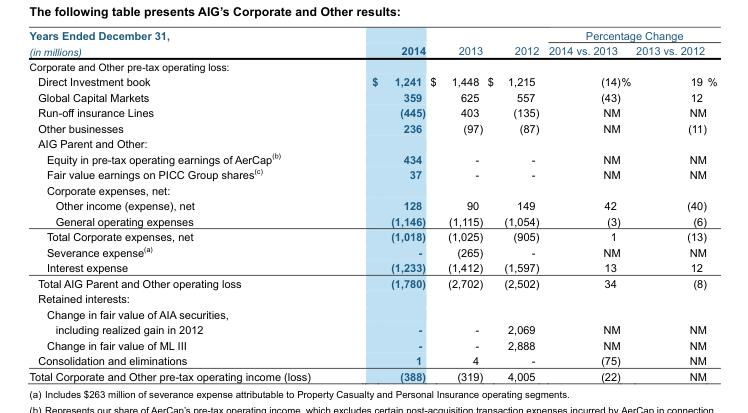table: (28, 28, 716, 382)
table column: (28, 28, 340, 382), (543, 28, 632, 382), (340, 28, 427, 382), (632, 28, 716, 382), (484, 28, 543, 382), (427, 28, 484, 382)
table column header: (28, 28, 716, 58)
table projected row header: (28, 290, 716, 306), (28, 58, 716, 73), (28, 135, 716, 150), (28, 182, 716, 197), (28, 306, 716, 321)
table row: (28, 42, 716, 58), (28, 73, 716, 89), (28, 104, 716, 120), (28, 150, 716, 166), (28, 166, 716, 182), (28, 197, 716, 213), (28, 243, 716, 259), (28, 259, 716, 275), (28, 290, 716, 306), (28, 321, 716, 337), (28, 352, 716, 368), (28, 58, 716, 73), (28, 89, 716, 104), (28, 120, 716, 135), (28, 135, 716, 150), (28, 182, 716, 197), (28, 213, 716, 228), (28, 228, 716, 243), (28, 275, 716, 290), (28, 306, 716, 321), (28, 337, 716, 352), (28, 28, 716, 42), (28, 368, 716, 382)
table spanning cell: (28, 28, 340, 58), (340, 28, 427, 58), (543, 28, 716, 42), (484, 28, 543, 58), (427, 28, 484, 58)
